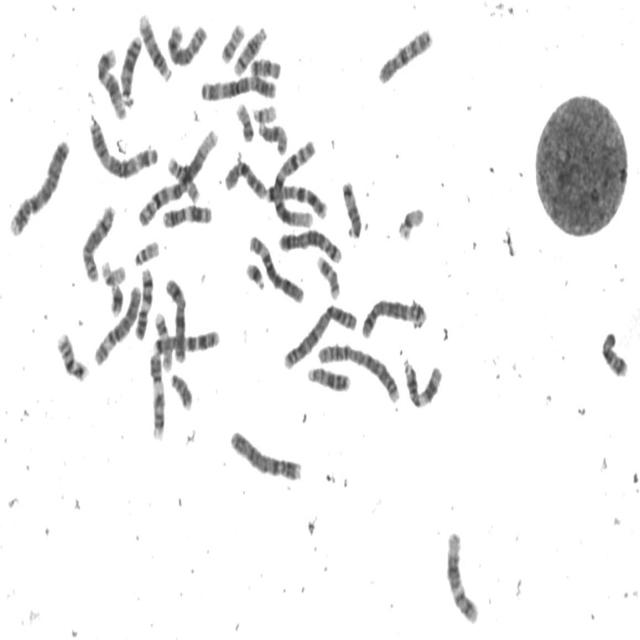A1: (136, 123, 221, 229), (271, 135, 318, 231)
A2: (281, 298, 360, 372), (315, 338, 402, 404)
A3: (86, 111, 160, 181), (197, 70, 279, 104)
B4: (6, 132, 71, 238), (227, 424, 304, 483)
B5: (359, 293, 429, 340), (276, 224, 344, 265)
C10: (375, 21, 435, 87), (222, 154, 268, 201)
C11: (400, 354, 445, 411), (159, 199, 214, 230)
C12: (444, 525, 481, 626), (94, 42, 129, 121)
C6: (92, 279, 144, 367), (247, 229, 306, 305)
C7: (264, 178, 330, 222), (150, 324, 223, 358)
C8: (79, 199, 117, 284), (164, 17, 209, 68)
C9: (147, 346, 167, 443), (133, 263, 155, 342)
D13: (118, 29, 144, 108), (305, 361, 353, 394)
D14: (136, 8, 174, 83), (230, 20, 268, 76)
D15: (340, 176, 364, 240), (255, 117, 289, 156)
E16: (54, 327, 91, 383), (164, 149, 201, 204)
E17: (152, 306, 174, 372), (314, 250, 342, 301)
E18: (599, 326, 630, 380), (247, 52, 283, 80)
F19: (396, 201, 426, 243), (98, 255, 128, 287)
F20: (218, 17, 246, 65), (233, 96, 256, 143)
G21: (242, 256, 266, 292), (106, 279, 125, 317)
G22: (132, 235, 161, 267), (251, 99, 278, 125)
X: (163, 272, 189, 366)
Y: (168, 368, 194, 411)
